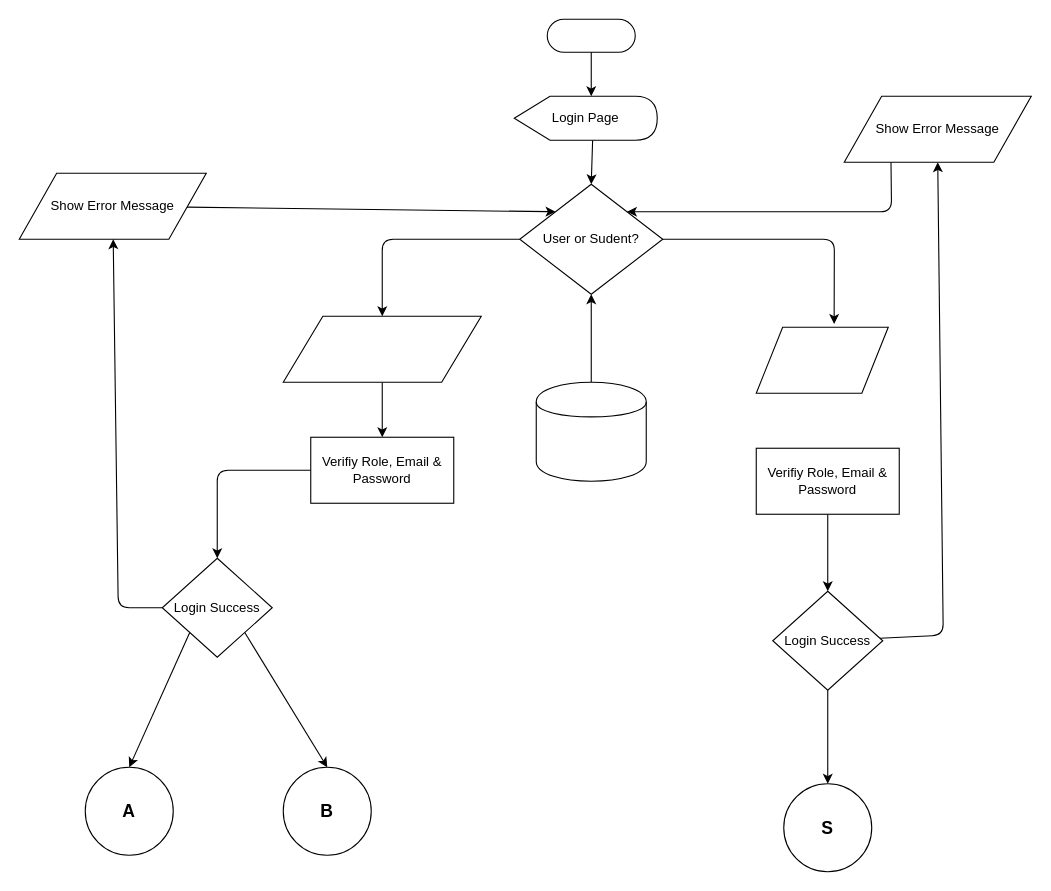
Image size: 1051x891. Some labels were removed from this diagram. Each missing label, with the centre of its shape:
attendnace_db: pixel 590 431
Role: Admin / Teacher Email & Password: pixel 381 348
Start: pixel 590 35
Student School ID No. / Password: pixel 821 359
